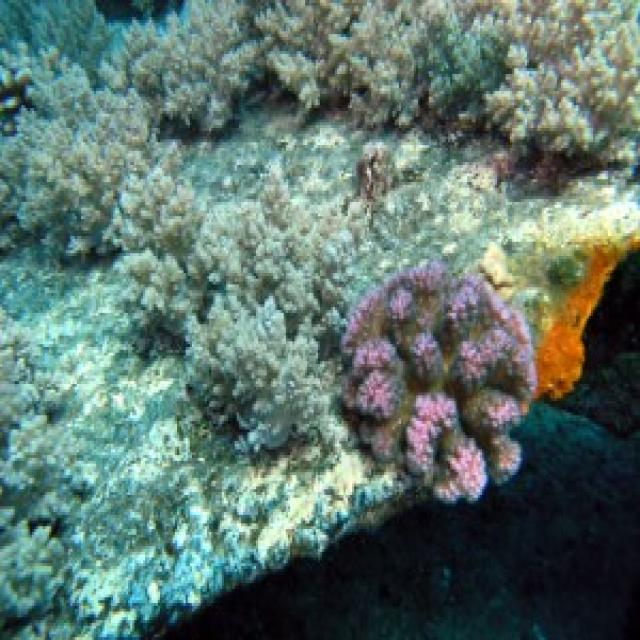Bleached: (1, 1, 639, 638)
Healthy: (344, 268, 536, 499)
